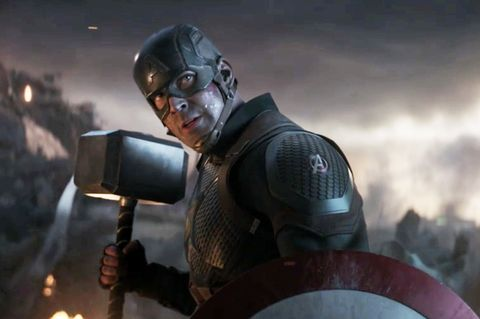Person: (120, 13, 370, 319)
